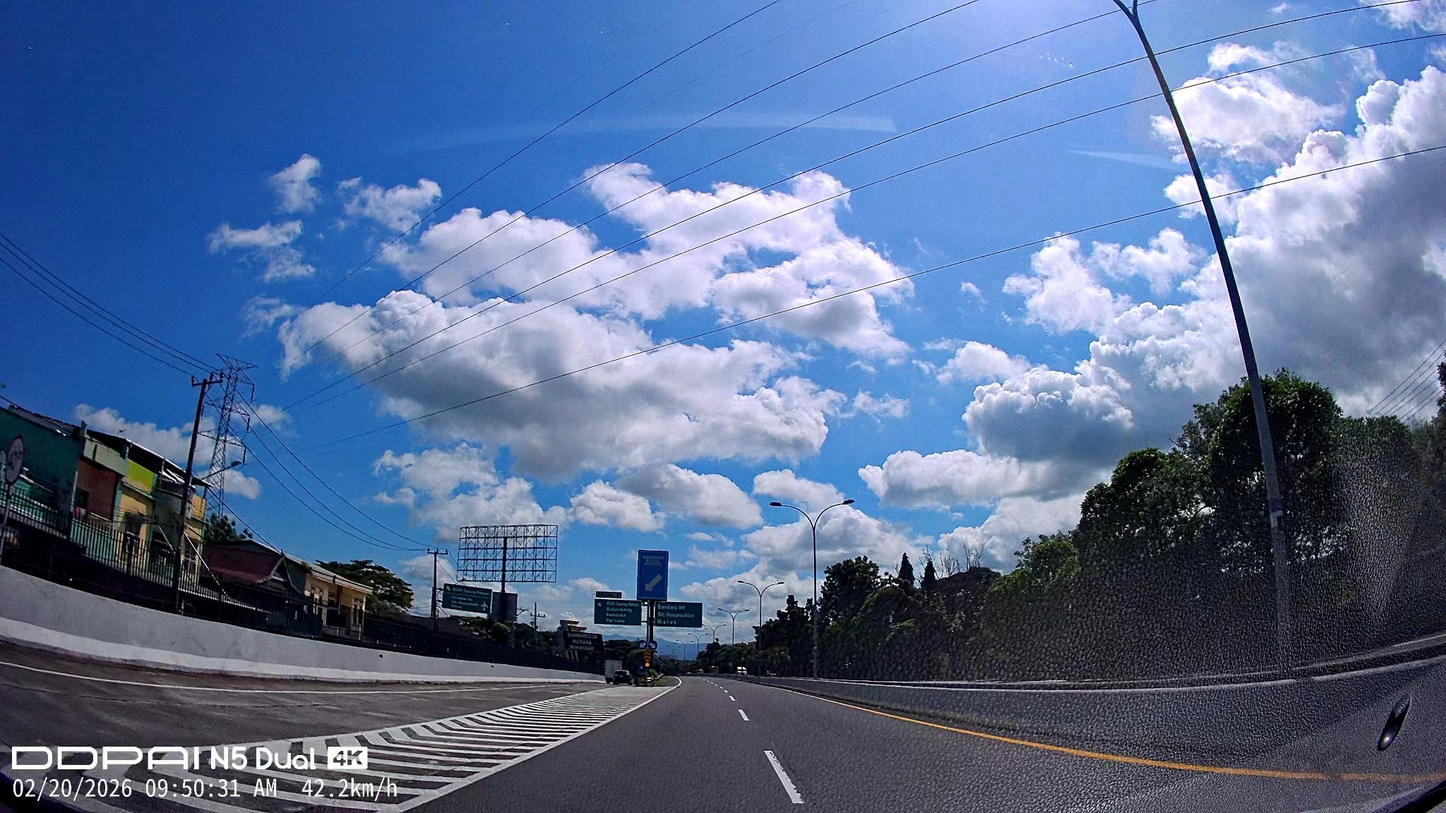rambu_teks: (653, 600, 703, 629), (593, 599, 643, 626)
